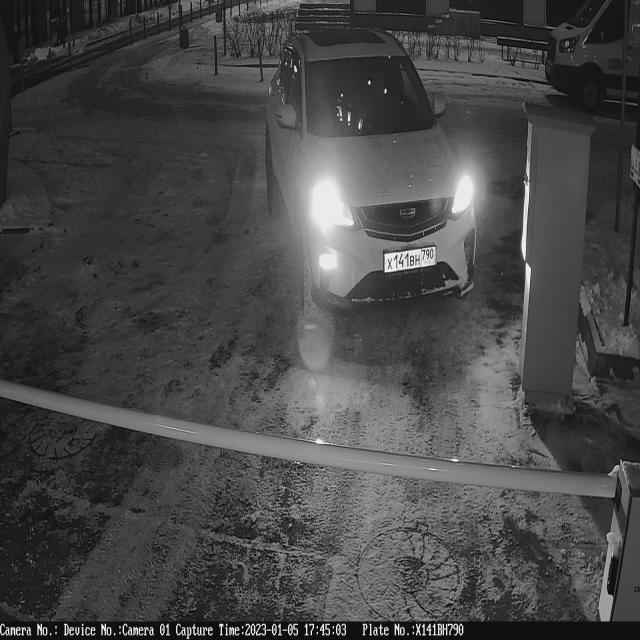car-plate-numbers: (382, 244, 439, 280)
